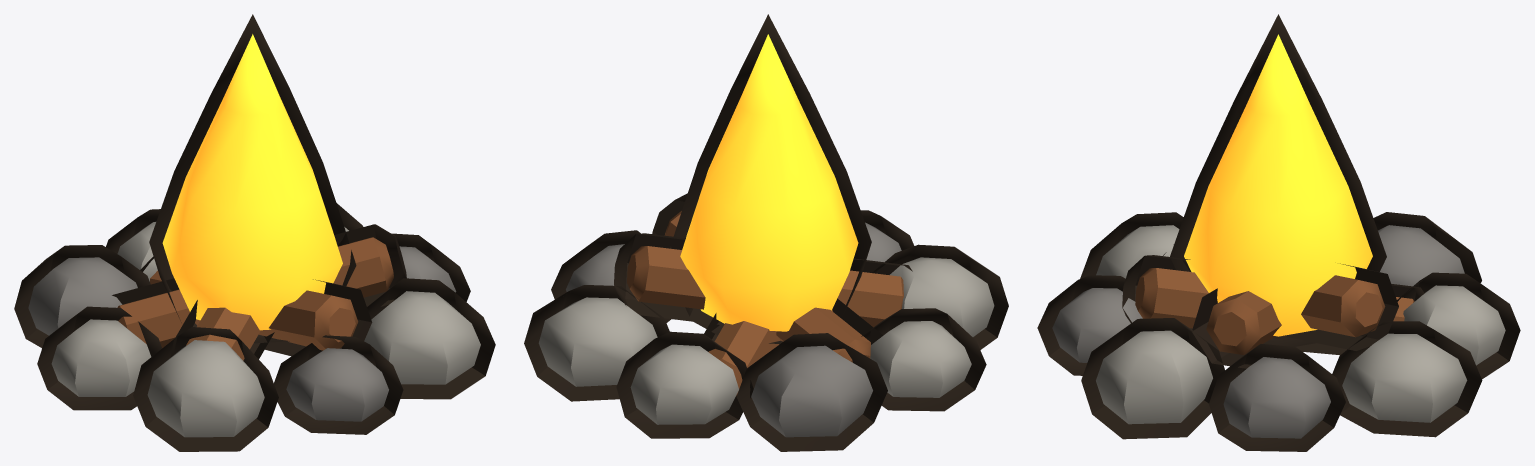
Rendered from campfire-2.glb.
3 views of the same model, side by side, from view 1: azimuth 30°, elevation 25°; view 2: azimuth 150°, elevation 25°; view 3: azimuth 270°, elevation 25° (orthographic).
Parts seen in each view (by area): view 1: campfire-2; view 2: campfire-2; view 3: campfire-2.
Boxes of the visible parts, box(x1,y1,x2,y2) form: campfire-2: box(14, 14, 495, 451); campfire-2: box(524, 14, 1008, 451); campfire-2: box(1037, 14, 1520, 451).
Size of the model in its own units: 1.34 by 1.1 by 1.38.
